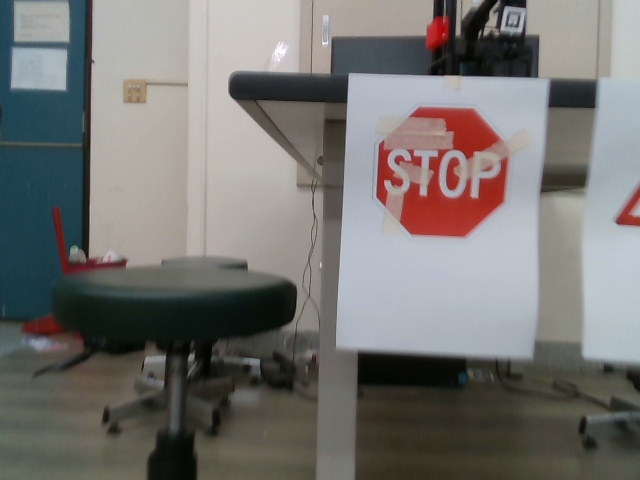stop: (372, 102, 516, 241)
